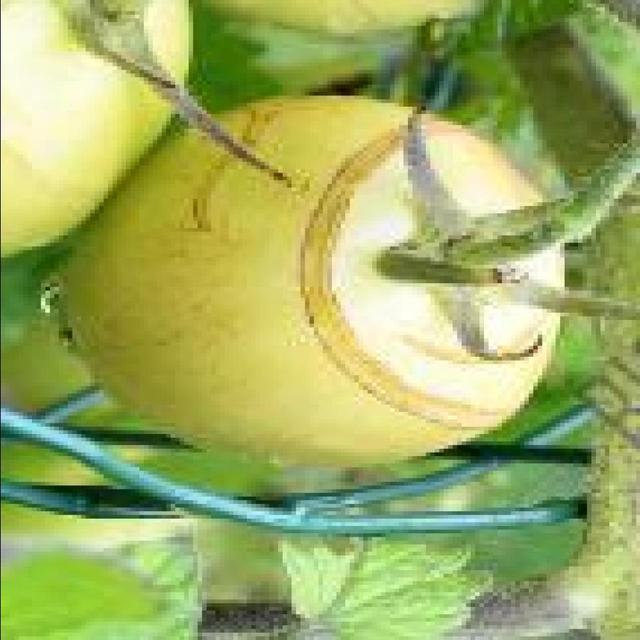Cracking Fruit: (195, 72, 361, 296)
